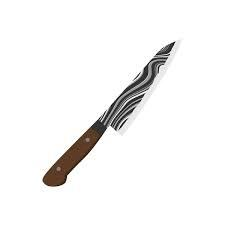Knife: (41, 39, 180, 186)
